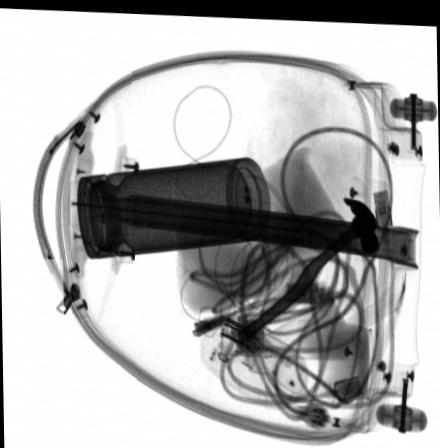Hammer: (235, 192, 378, 339)
